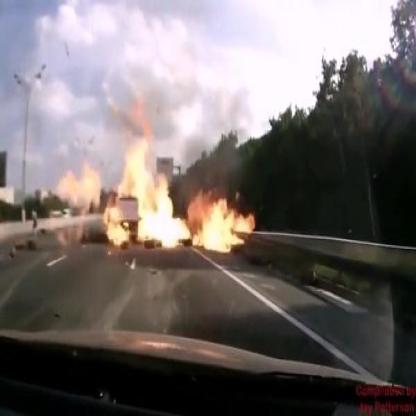fire: (101, 113, 187, 261), (187, 184, 257, 262), (54, 161, 100, 220)
